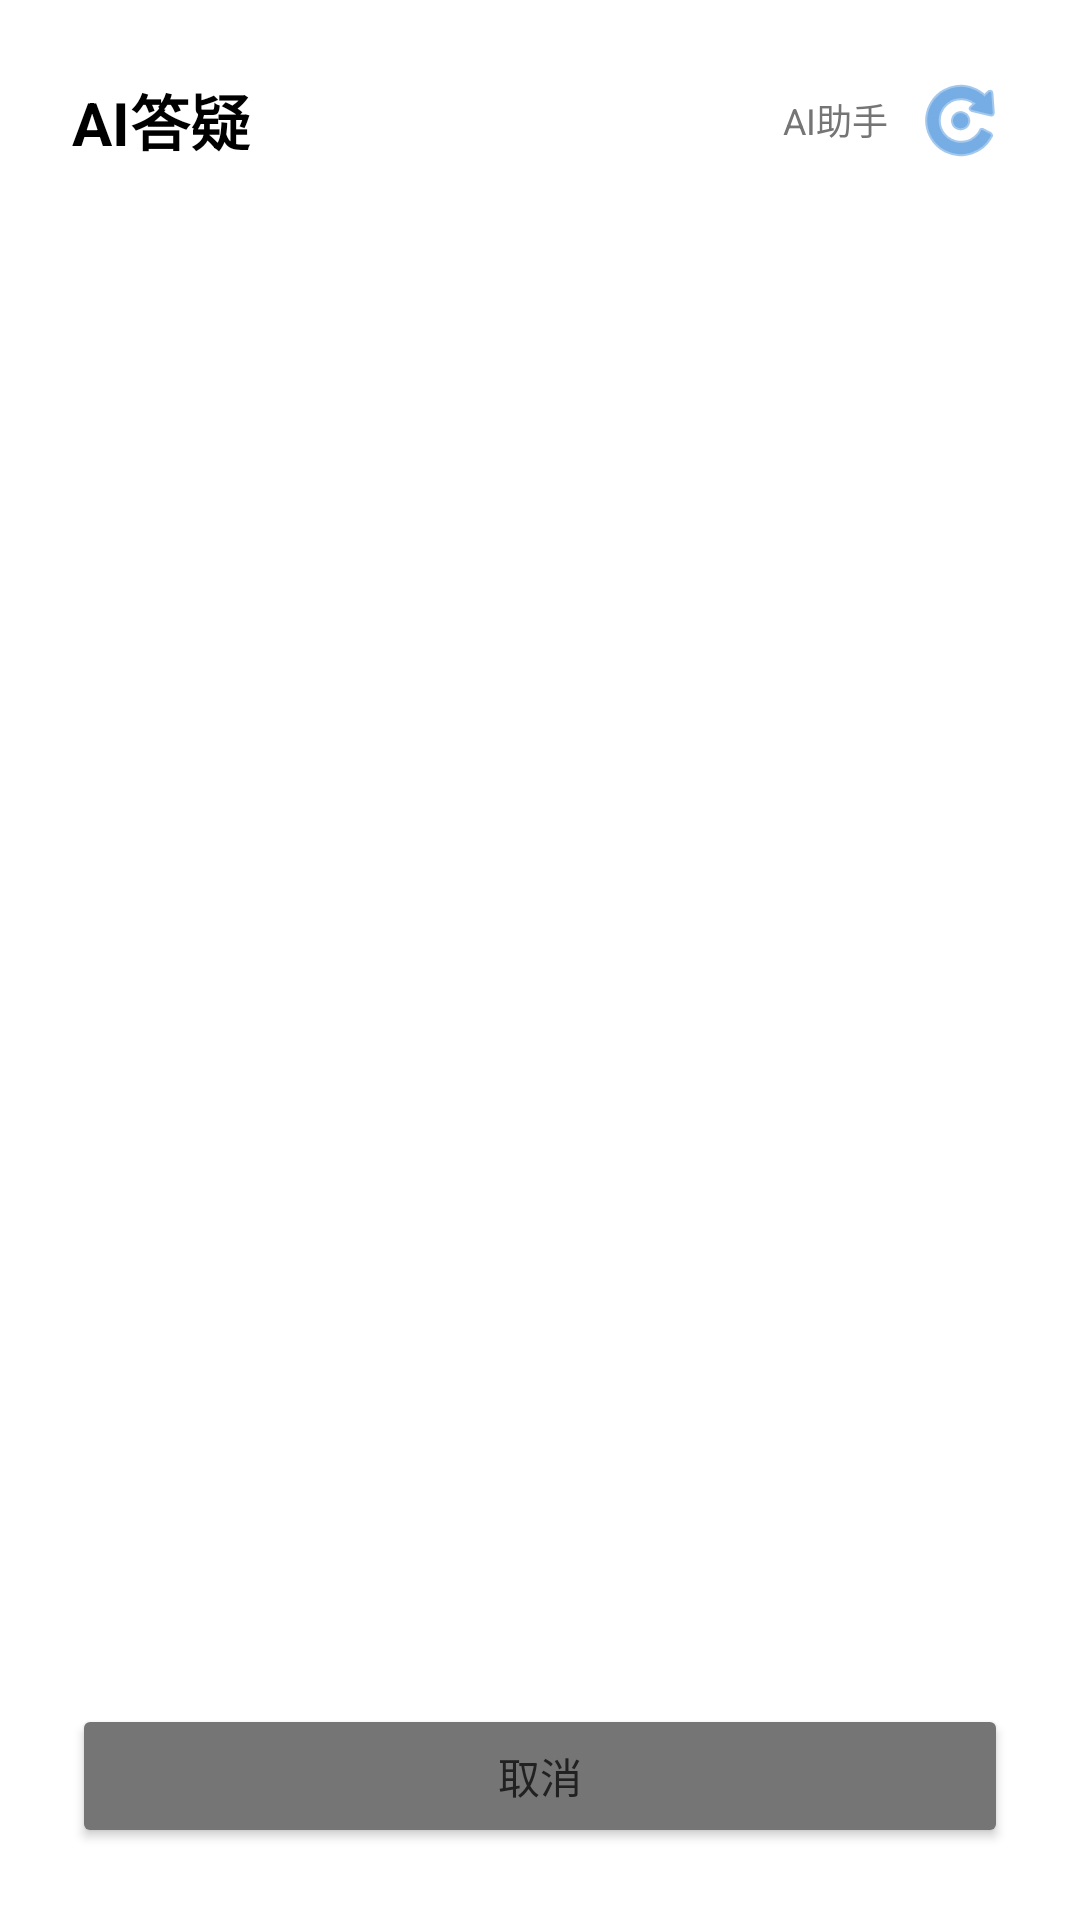

Screen size 1080*1920. Icon name, then its box in pixels as (x1,y1,x2,y2):
刷新: (925,85,995,156)
